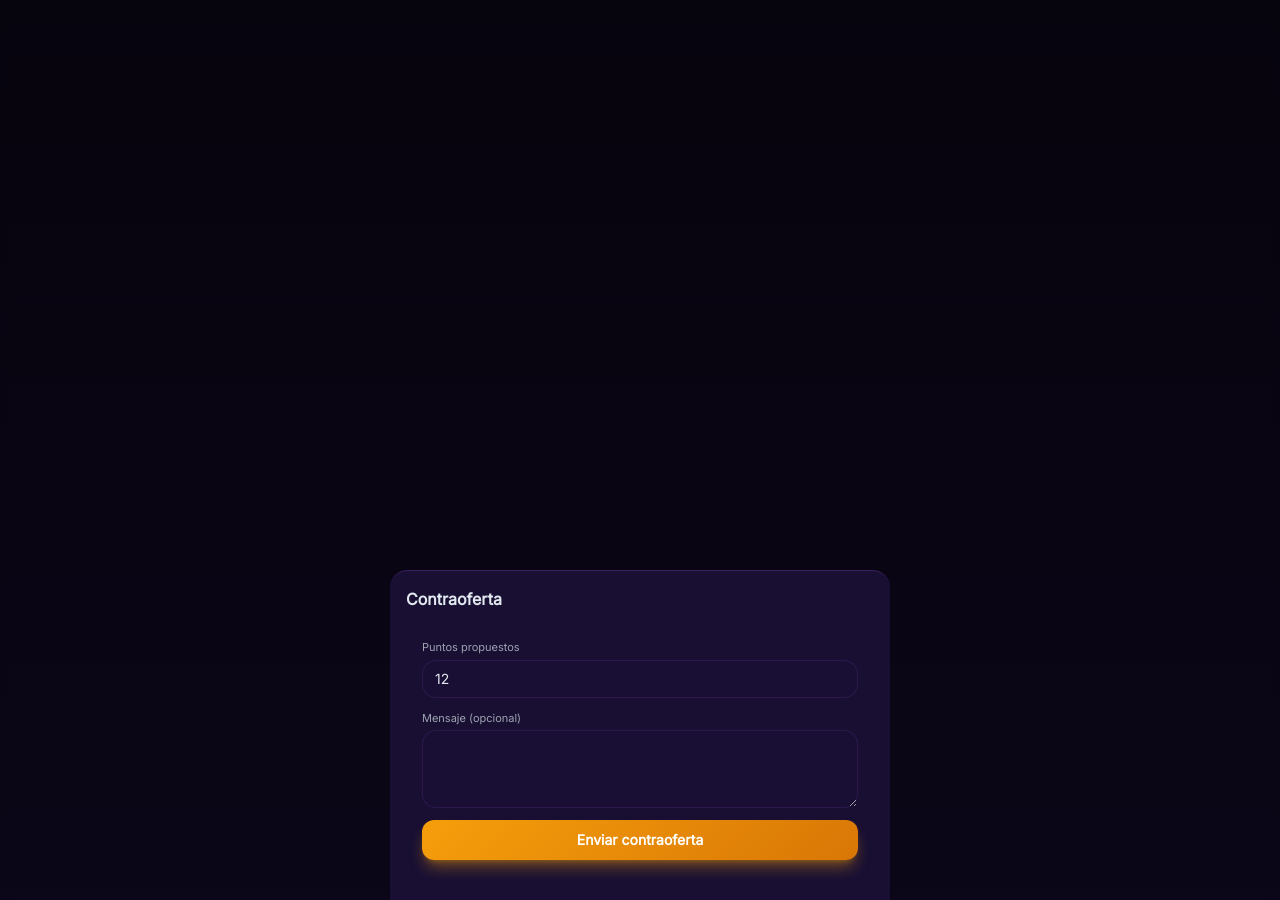
CounterOfferSheet › rejects submit when points empty or ≤ 0
Replace the text in the number field labelled "Puntos propuestos" with "0" at (640, 678), box [422,660,858,698]
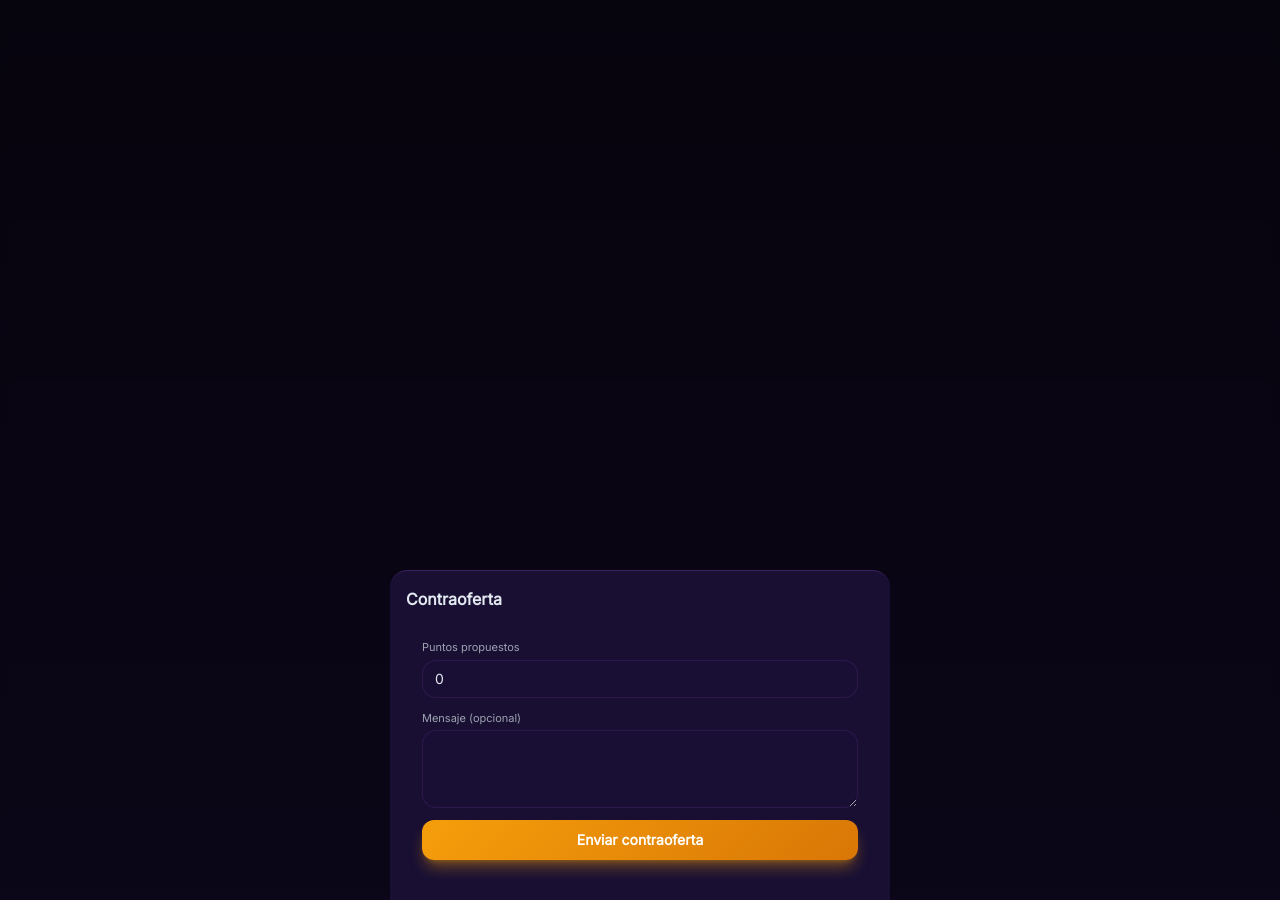
Click the button "Enviar contraoferta" at (640, 840), box [422,820,858,860]
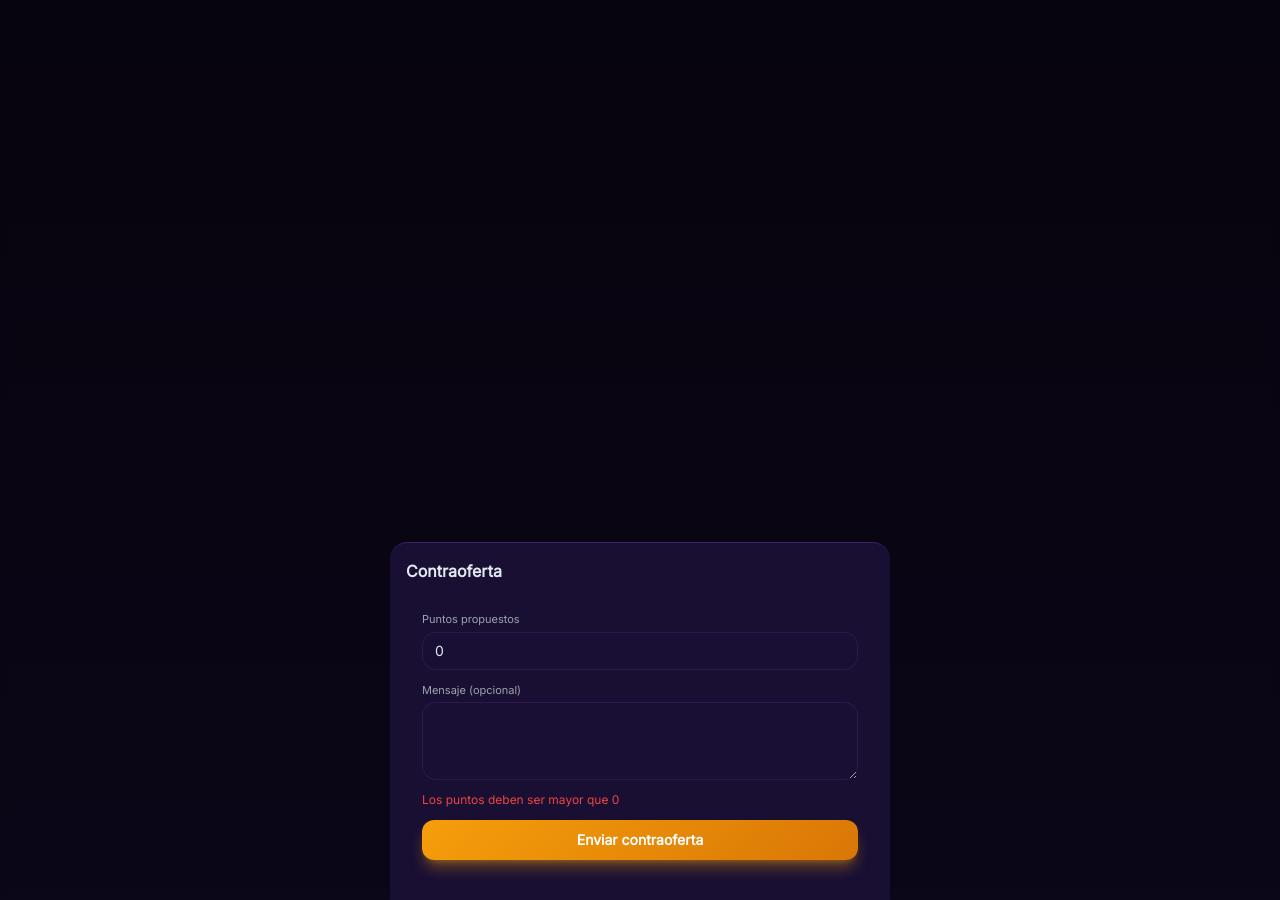
Expected: the text "Los puntos deben ser mayor que 0" is shown, [422,792,619,807]
